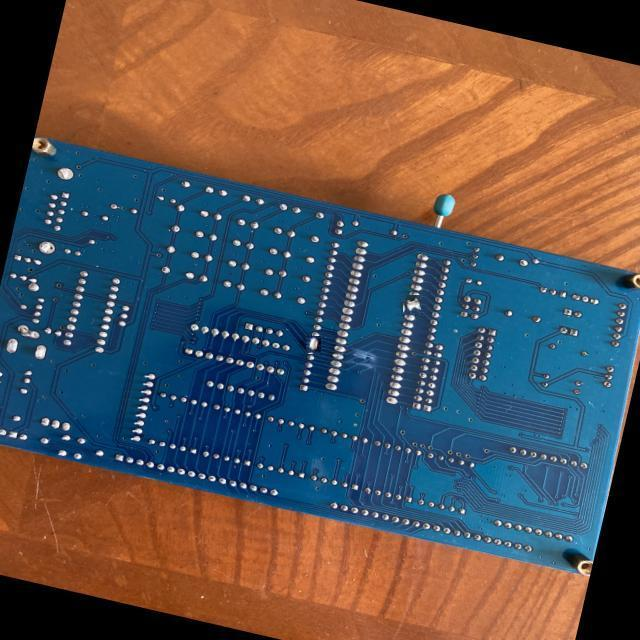damged: (402, 296, 421, 315), (306, 336, 321, 354)
